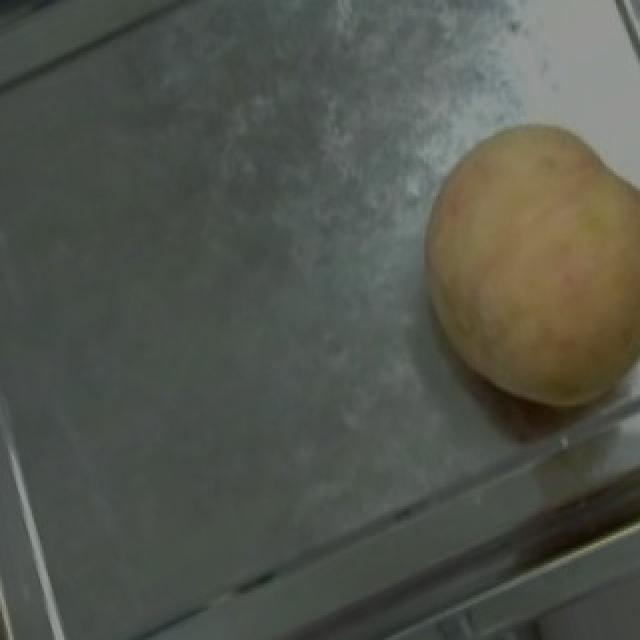Fruit: (378, 87, 638, 446)
